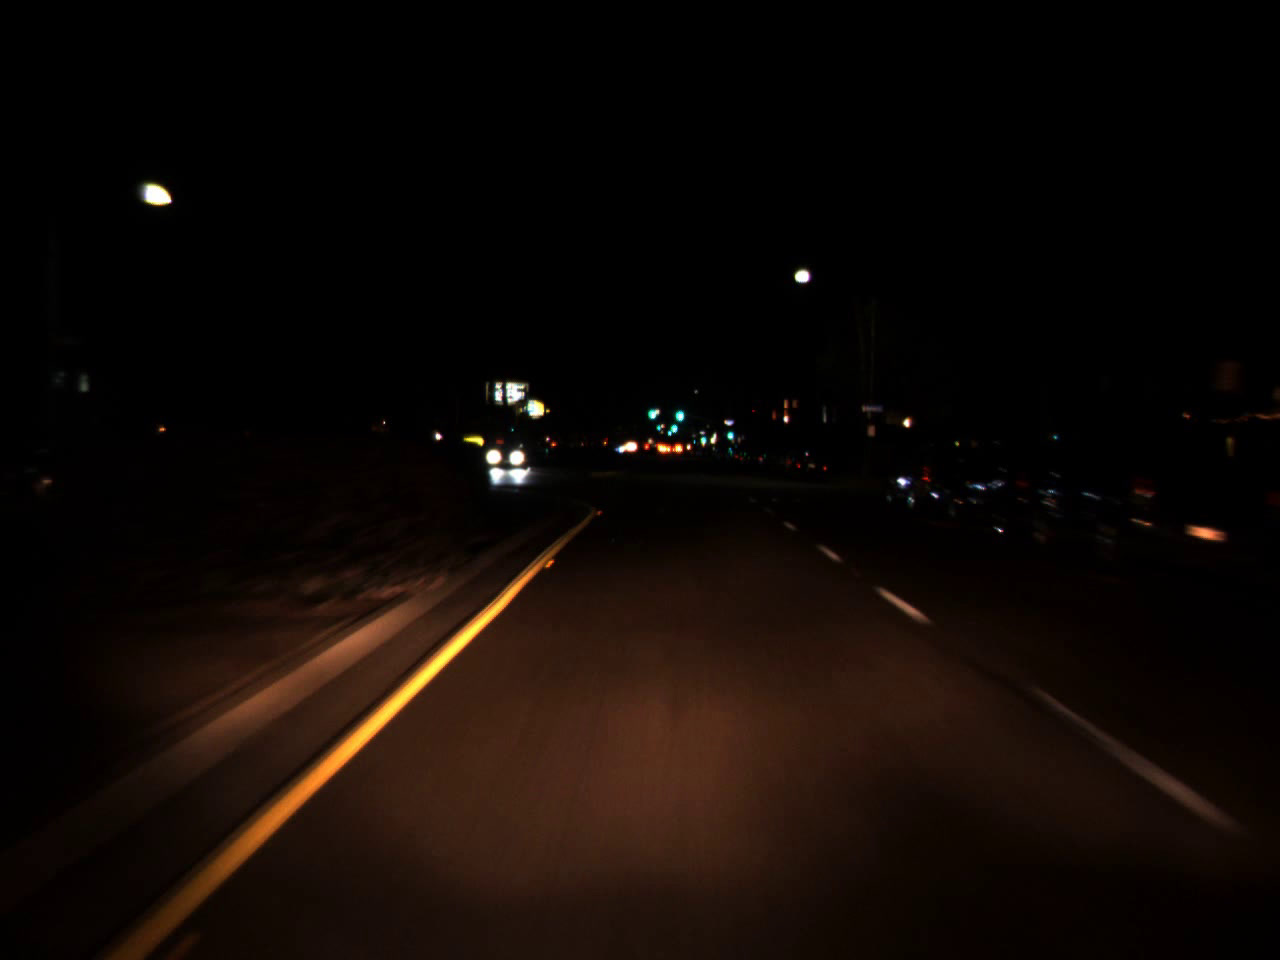go: (645, 396, 657, 423), (672, 398, 684, 425), (668, 416, 678, 434), (725, 426, 734, 438), (665, 425, 672, 437), (700, 432, 707, 444)
